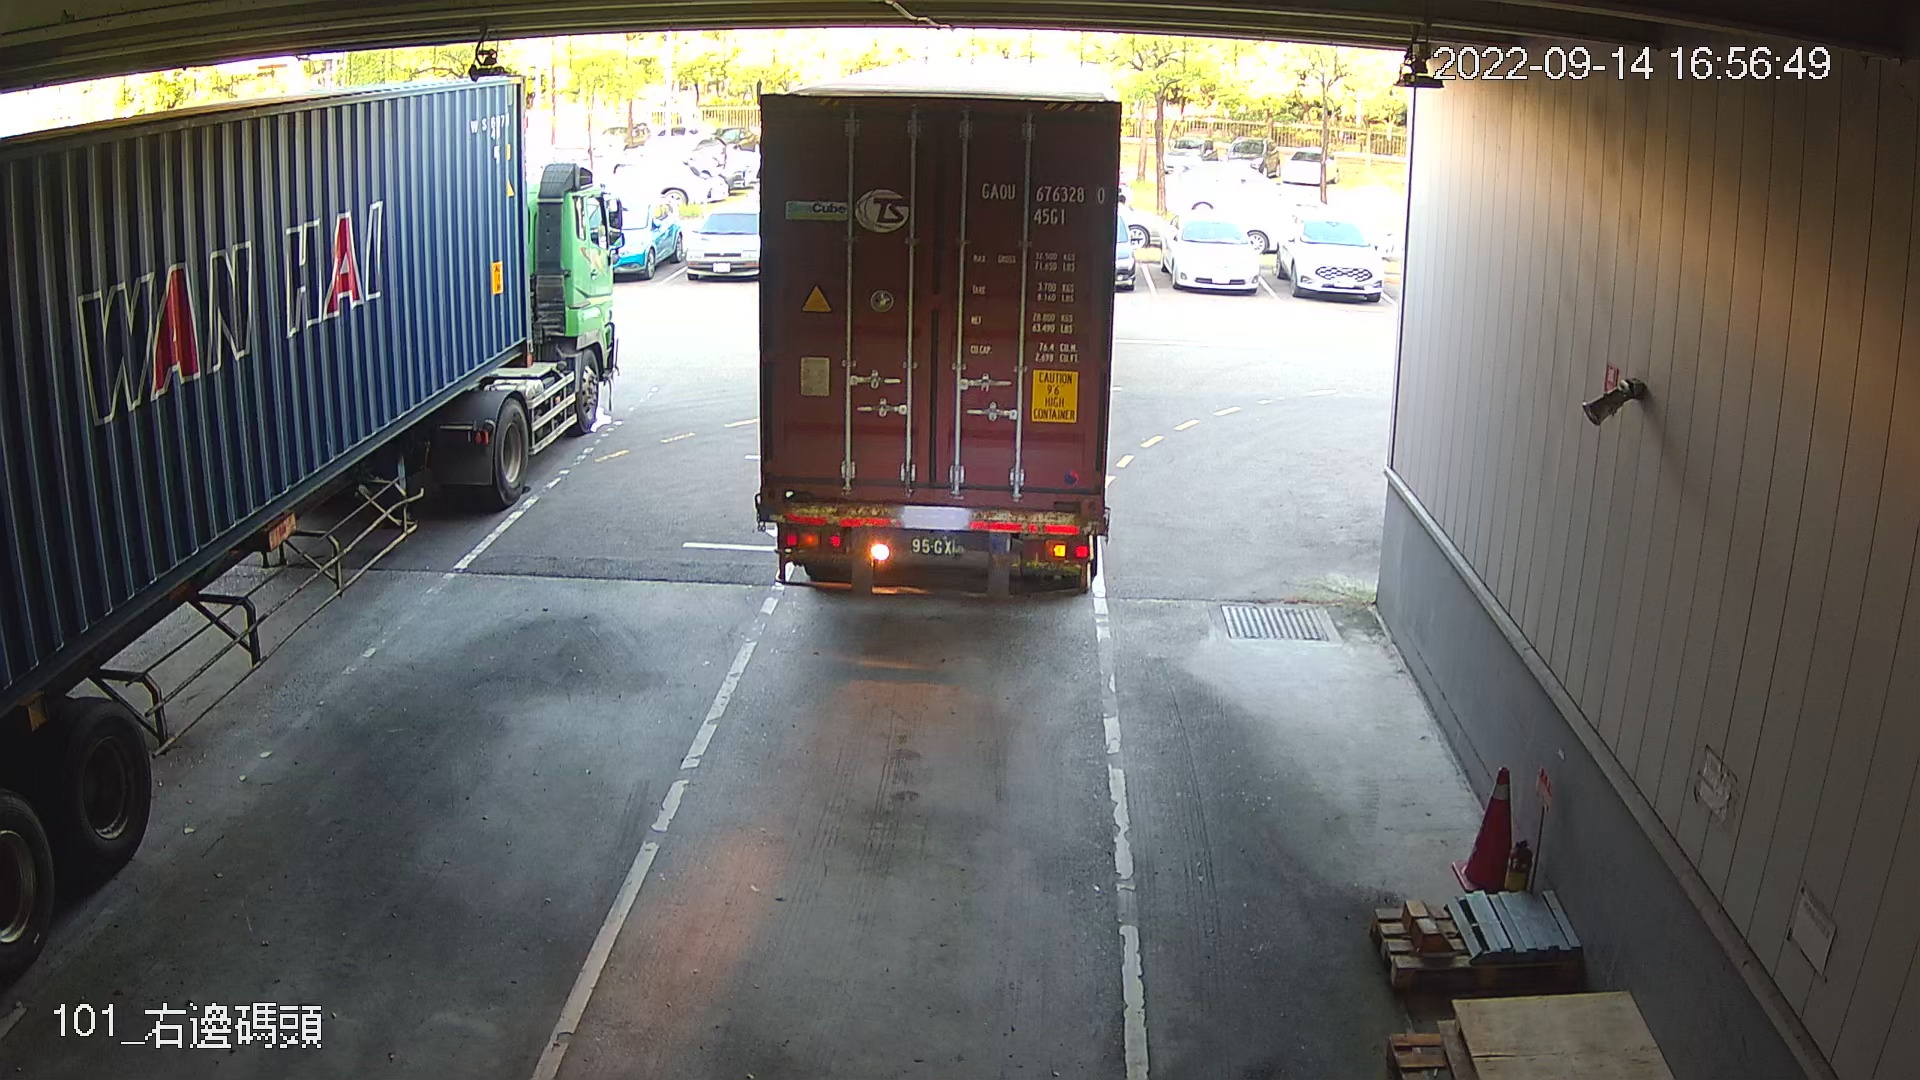container: (973, 173, 1112, 232)
